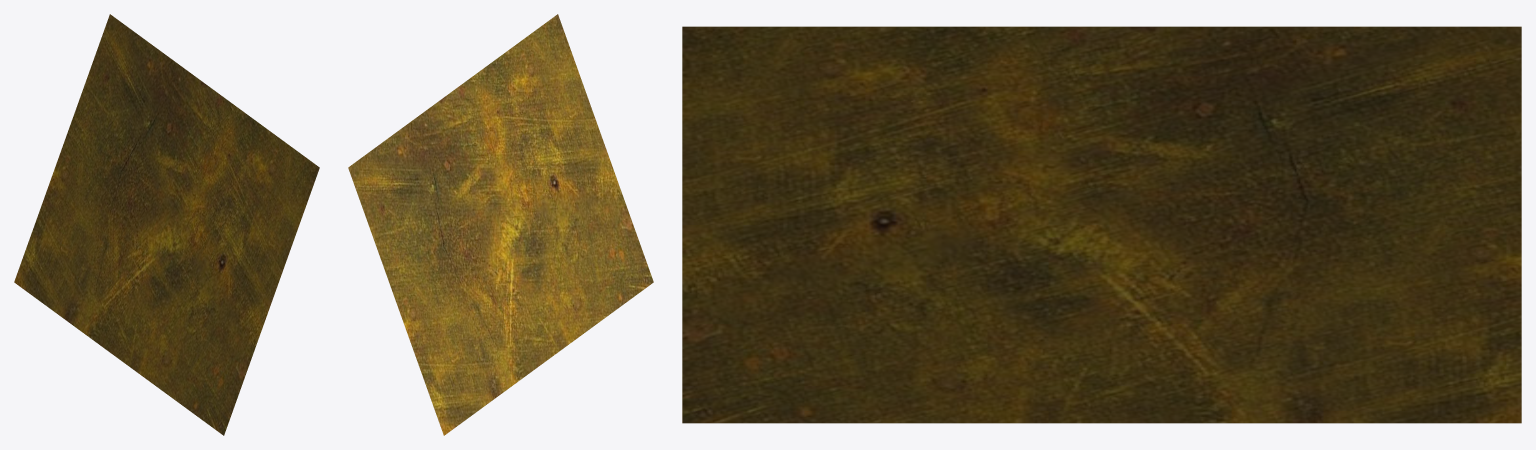
The picture shows the model from 3 angles, left to right: view 1: azimuth 30°, elevation 25°; view 2: azimuth 150°, elevation 25°; view 3: azimuth 270°, elevation 25°; orthographic projection. The views are drawn at different scales.
Visible parts, largest first — view 1: 4_base__material_4_18_8; view 2: 4_base__material_4_18_8; view 3: 4_base__material_4_18_8.
Boxes of the visible parts, x1,y1,x2,y2 form: 4_base__material_4_18_8: (14,14,319,435); 4_base__material_4_18_8: (348,14,653,435); 4_base__material_4_18_8: (682,26,1521,423).
Size of the model in its own units: 0.000278 by 0.000679 by 0.00105.
Materials: 1 (1 with a texture image).
